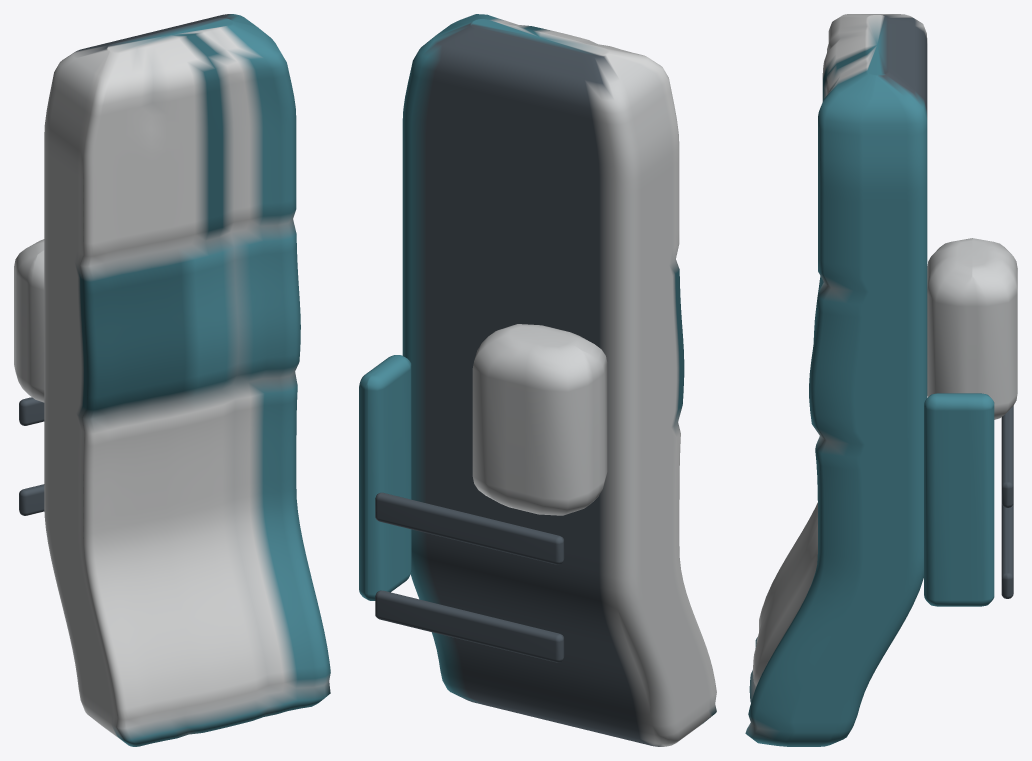
The model's file is goalie_pad_left.glb.
3 views of the same model, side by side, from view 1: azimuth 30°, elevation 25°; view 2: azimuth 150°, elevation 25°; view 3: azimuth 270°, elevation 25° (orthographic). The views are drawn at different scales.
Visible parts, largest first — view 1: goalie_pad_left2; view 2: goalie_pad_left2; view 3: goalie_pad_left2.
Part boxes in pixels (<box>): goalie_pad_left2: <box>14,14,330,746</box>; goalie_pad_left2: <box>359,14,716,746</box>; goalie_pad_left2: <box>745,14,1017,746</box>.
Bounding box in the file's own units: 0.256 × 0.73 × 0.271.
